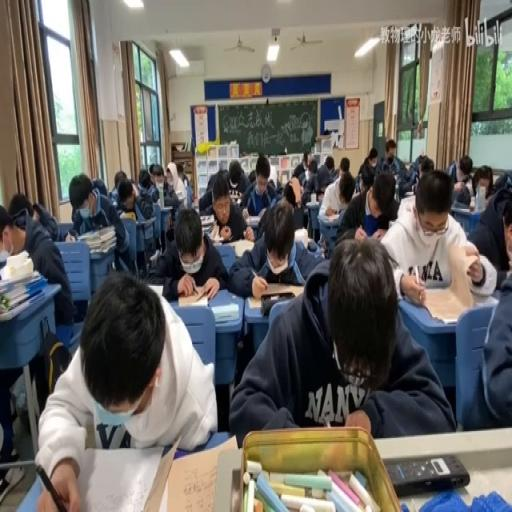calculator: (160, 436, 237, 512), (418, 283, 467, 323), (247, 282, 304, 307), (177, 287, 209, 306), (210, 302, 238, 322), (208, 226, 234, 243), (232, 236, 254, 256), (293, 226, 309, 248), (145, 283, 163, 297), (172, 186, 186, 204), (198, 215, 212, 232), (322, 212, 341, 222), (138, 214, 156, 224), (119, 209, 136, 219), (0, 249, 9, 267), (245, 214, 261, 224), (451, 201, 470, 209), (149, 248, 159, 260), (306, 198, 320, 206), (64, 232, 77, 240), (160, 205, 173, 210), (404, 191, 414, 196), (192, 201, 198, 209)
paper: (229, 234, 446, 444), (34, 270, 212, 511), (376, 165, 489, 304), (1, 196, 74, 332), (461, 234, 511, 430), (147, 205, 228, 300), (70, 172, 128, 279), (337, 165, 398, 245), (240, 154, 278, 224), (0, 400, 26, 502), (198, 159, 245, 215), (38, 327, 70, 395), (150, 164, 182, 230), (115, 175, 147, 226), (446, 152, 474, 199), (380, 138, 406, 181), (356, 145, 378, 186), (280, 176, 302, 214), (470, 165, 493, 199), (300, 158, 319, 199), (7, 192, 32, 223), (398, 162, 420, 196), (491, 171, 512, 195), (338, 175, 354, 205), (501, 216, 510, 263), (418, 155, 434, 178), (91, 176, 107, 198), (176, 162, 188, 189), (145, 181, 159, 202), (138, 166, 150, 186), (114, 171, 126, 189), (339, 155, 350, 172), (130, 180, 140, 198), (110, 185, 119, 203), (324, 155, 334, 171), (30, 200, 41, 214), (248, 168, 256, 182), (304, 156, 310, 170), (316, 189, 323, 201), (419, 149, 425, 161)
person: (384, 454, 470, 496)
